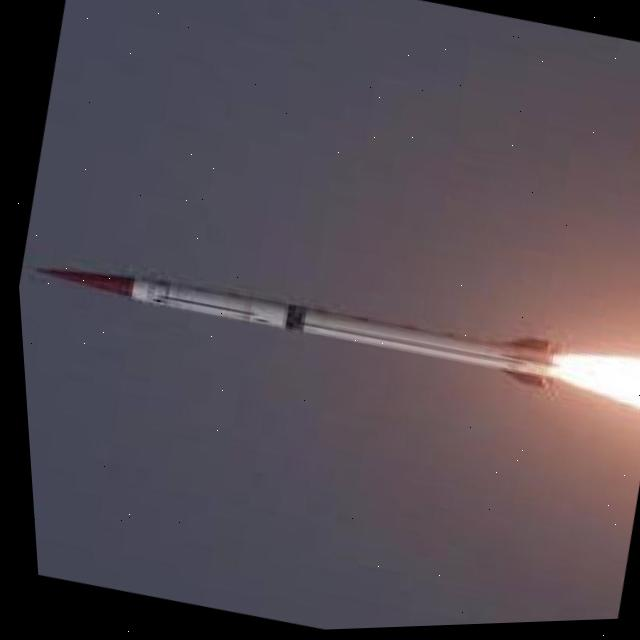missile: (21, 227, 562, 416)
